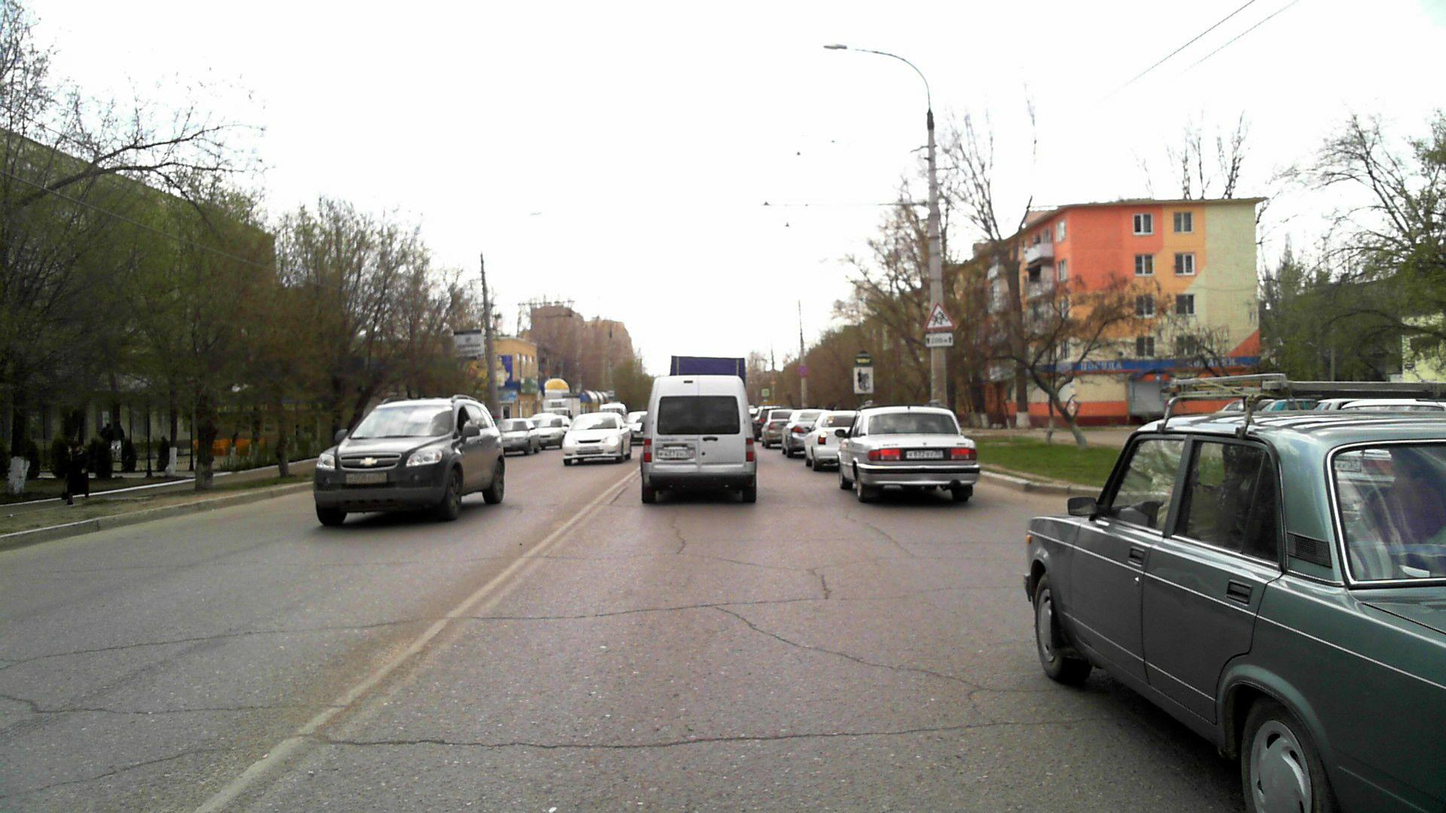road_sign: (922, 300, 960, 332), (925, 333, 953, 348)
